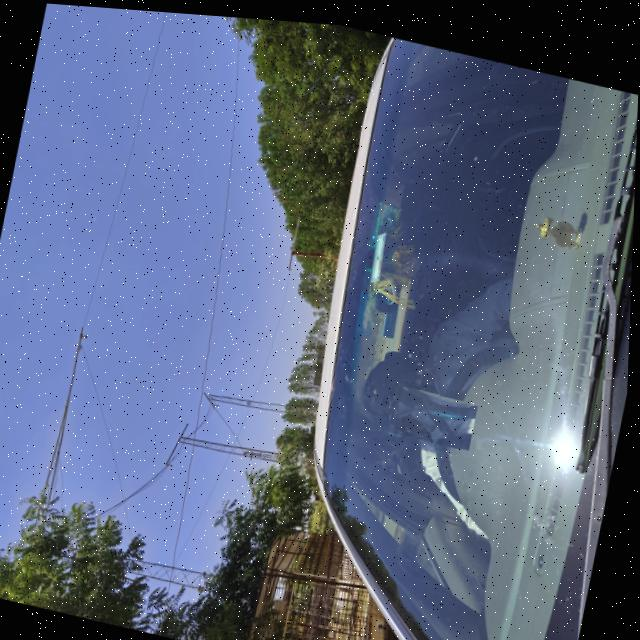seatbelt: (401, 373, 476, 448)
